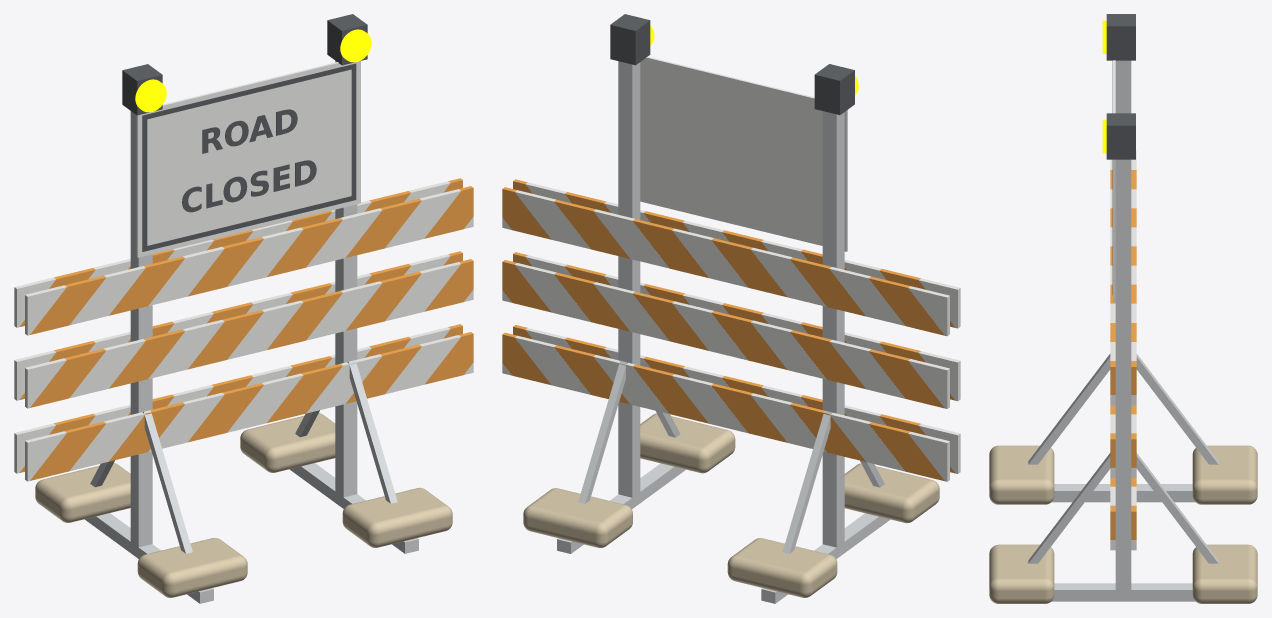
The model's file is barricade-type-3-road-closed.glb.
The picture shows the model from 3 angles, left to right: view 1: azimuth 30°, elevation 25°; view 2: azimuth 150°, elevation 25°; view 3: azimuth 270°, elevation 25°; orthographic projection.
Visible parts, largest first — view 1: rail1_front_white, rail1_front_orange, sandbags, posts, sign_legend, lamp_lens; view 2: rail1_front_white, rail1_front_orange, posts, sandbags, sign_legend; view 3: posts, sandbags, sign_legend, rail1_front_white, rail1_front_orange.
Boxes of the visible parts, x1,y1,x2,y2 form: rail1_front_white: (14,61,473,481); rail1_front_orange: (19,178,473,480); sandbags: (35,413,452,597); posts: (85,61,418,603); sign_legend: (122,14,367,251); lamp_lens: (135,29,371,112); rail1_front_white: (502,56,960,481); rail1_front_orange: (502,179,955,481); posts: (557,61,890,603); sandbags: (523,413,939,597); sign_legend: (610,14,854,114); posts: (1028,60,1218,601); sandbags: (989,445,1257,603); sign_legend: (1106,14,1135,294); rail1_front_white: (1110,60,1136,550); rail1_front_orange: (1110,170,1136,539).
Bounding box in the file's own units: 2.44 × 2.52 × 1.28.
